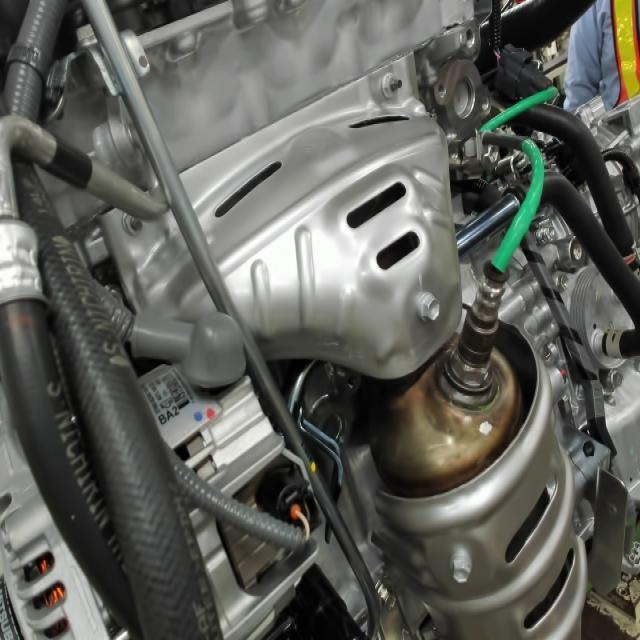Alternator-BA2: (158, 395, 182, 429)
Hose Discharge-HT: (38, 125, 97, 197)
